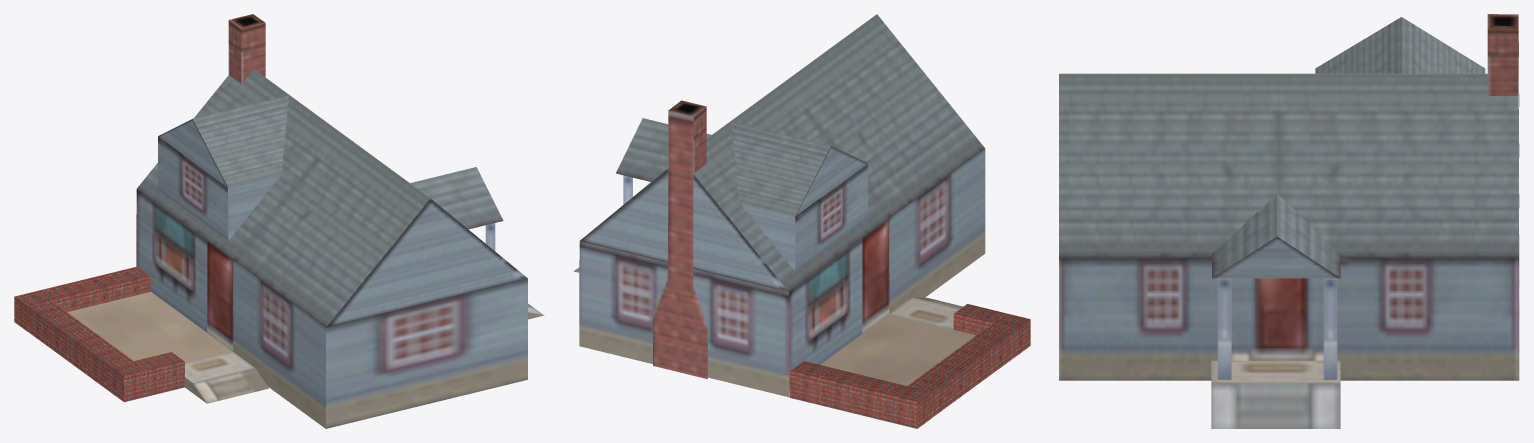
The model's file is house01.glb.
3 renders of one model, left to right at view 1: azimuth 30°, elevation 25°; view 2: azimuth 150°, elevation 25°; view 3: azimuth 270°, elevation 25°, orthographic. The views are drawn at different scales.
Visible parts, largest first — view 1: house01; view 2: house01; view 3: house01.
Boxes of the visible parts, left/top/right/bottom form: house01: left=14, top=14, right=544, bottom=428; house01: left=573, top=14, right=1030, bottom=428; house01: left=1059, top=14, right=1519, bottom=428.
Bounding box in the file's own units: 2037 × 1203 × 1657.
3 materials, 3 textured.
